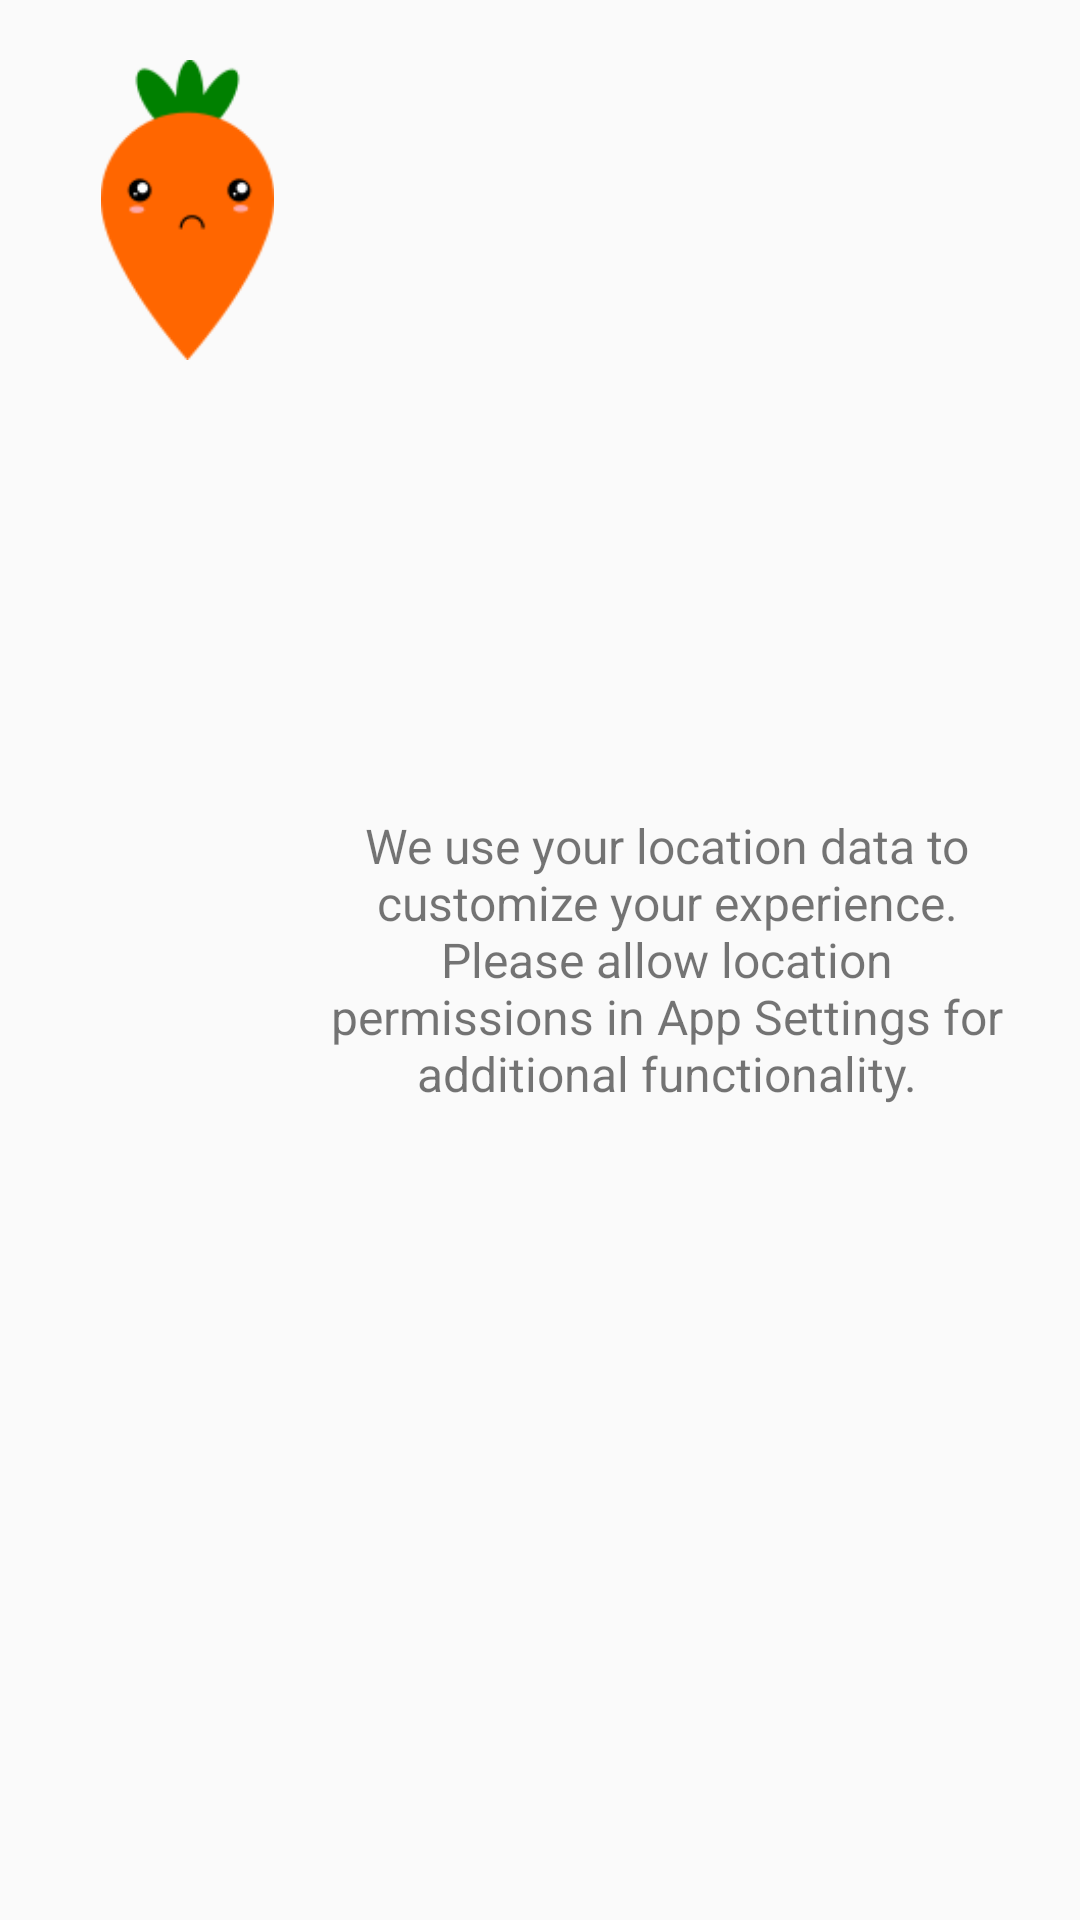

Named icons in this screenshot (1080w x 1920h) and their centers, [x,y]:
Sad Carrot: [187,210]
